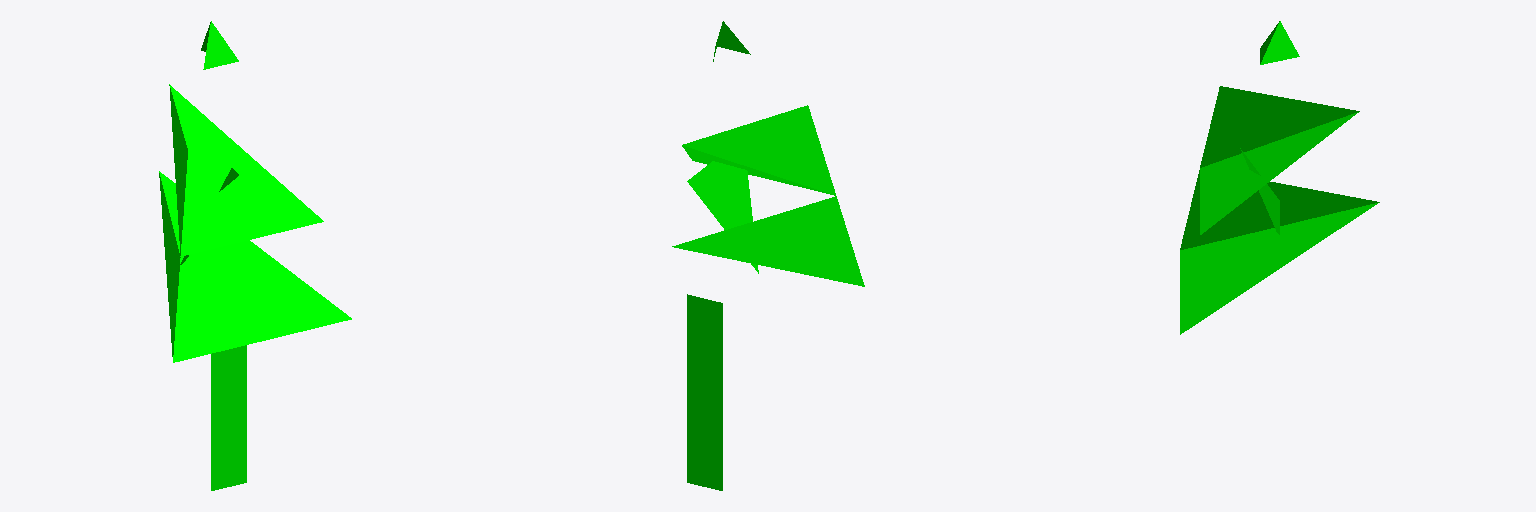
The robot description file, URDF, robot "pretty_christmas_tree":
<?xml version="1.0"?>
<robot name="pretty_christmas_tree">
  <link name="base_link">
    <visual>
      <geometry>
        <mesh filename="tree.obj" scale="1.0 1.0 1.0" />
      </geometry>
      <material name="tree_material">
        <color rgba="0.0 1.0 0.0 1.0"/>
      </material>
    </visual>
    <collision>
      <geometry>
        <cylinder radius="0.4" length="0.1" />
      </geometry>
    </collision>
    <inertia>
      <origin rpy="0 0 0" xyz="0 0 1.0" />
      <mass value="5.0" />
      <inertia
        ixx="0.4" ixy="0.0" ixz="0.0"
        iyy="0.4" iyz="0.0"
        izz="0.1" />
    </inertia>
  </link>
</robot>

--- Render facts (derived) ---
3 views of the same robot in one strip: view 1: azimuth 30°, elevation 25°; view 2: azimuth 150°, elevation 25°; view 3: azimuth 270°, elevation 25° (orthographic).
Robot: pretty_christmas_tree — 1 links, 0 joints (none); root link base_link; default pose: every joint at zero.
Links seen in each view (by area): view 1: base_link; view 2: base_link; view 3: base_link.
Boxes of the visible links, x1=… form: base_link: x1=159, y1=21, x2=351, y2=490; base_link: x1=672, y1=21, x2=864, y2=490; base_link: x1=1180, y1=21, x2=1379, y2=334.
Size in the robot's own frame: 1 by 1 by 2.5 metres.
Meshes: 1 distinct files referenced, 1 mesh visuals loaded (1 OBJ).